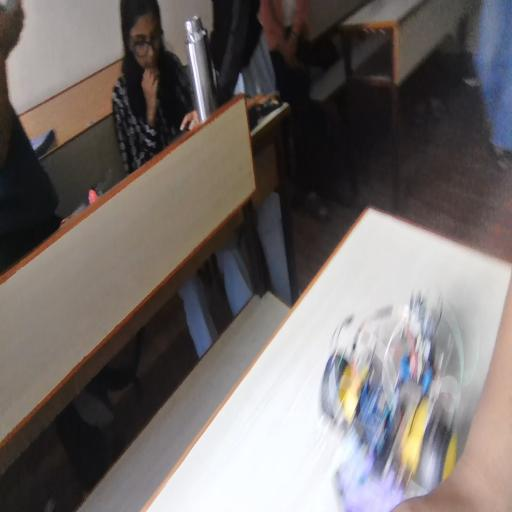car: (337, 277, 459, 492)
